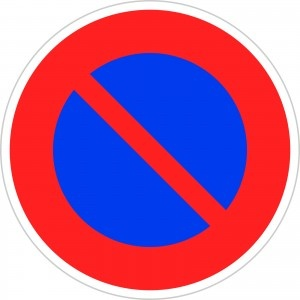Prohibition_sign: (4, 1, 295, 300)
